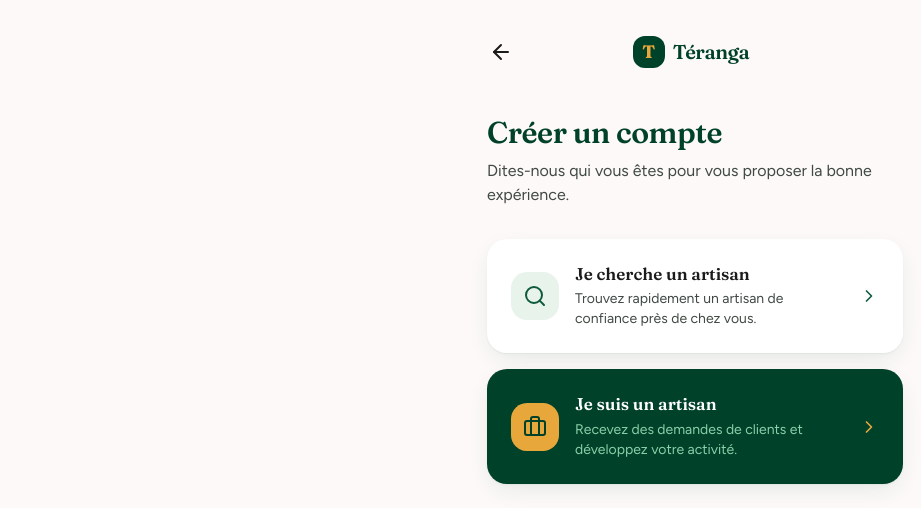
Test: RoleSelectScreen › carries intent=signup and role=artisan forward when picking "Je suis un artisan"
Click the button "Je suis un artisan" at (695, 427), box x1=487 y1=369 x2=903 y2=484
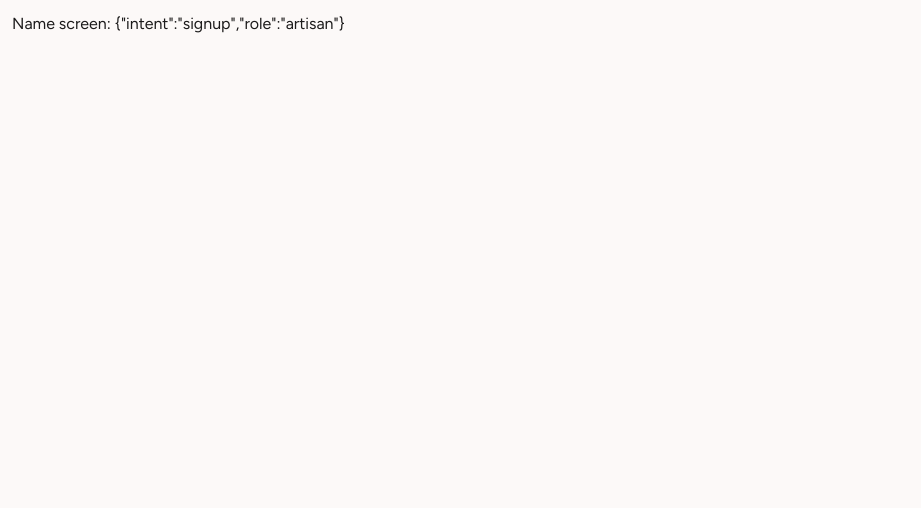
Expected: the text "Name screen: {\"intent\":\"signup\",\"role\":\"artisan\"}" is shown, x1=12 y1=14 x2=345 y2=33
